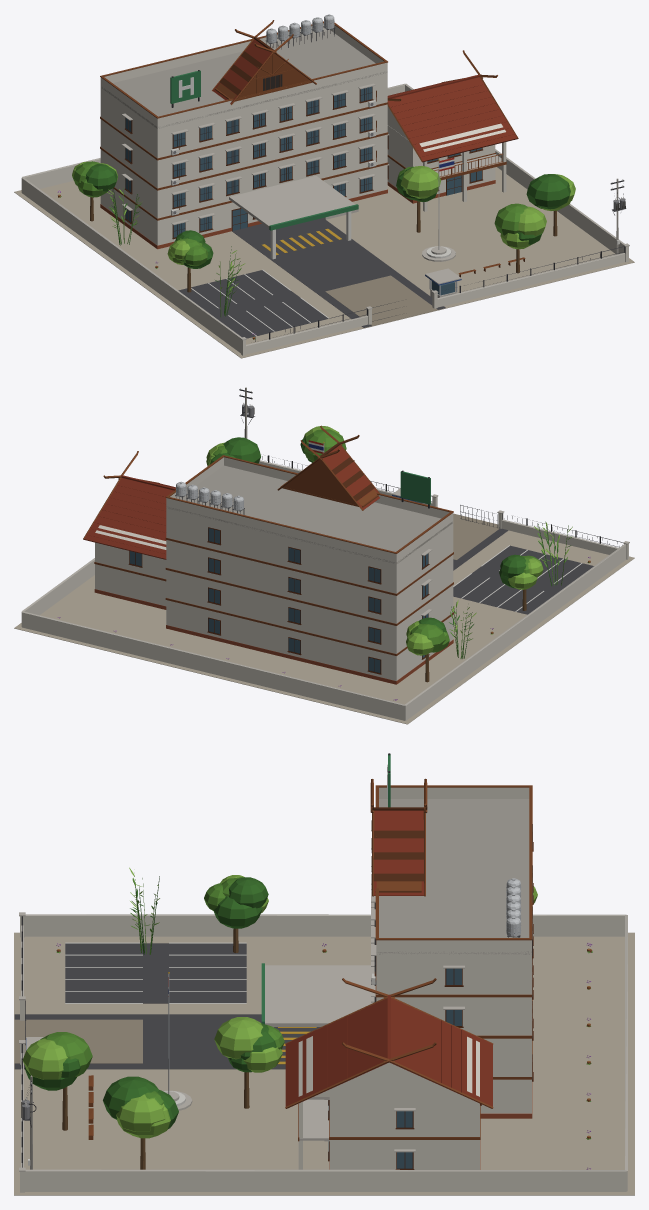
File: hospital.glb
3 views of the same model, one above another, from view 1: azimuth 30°, elevation 25°; view 2: azimuth 150°, elevation 25°; view 3: azimuth 270°, elevation 25° (orthographic). The views are drawn at different scales.
Parts seen in each view (by area): view 1: body, windows; view 2: body, windows; view 3: body, windows.
Boxes of the visible parts, x1=… form: body: x1=14, y1=14, x2=634, y2=358; windows: x1=125, y1=74, x2=481, y2=295; body: x1=14, y1=387, x2=634, y2=724; windows: x1=130, y1=498, x2=428, y2=672; body: x1=14, y1=753, x2=634, y2=1195; windows: x1=328, y1=824, x2=532, y2=1168.
Bounding box in the file's own units: 47.9 × 21.62 × 47.9.
